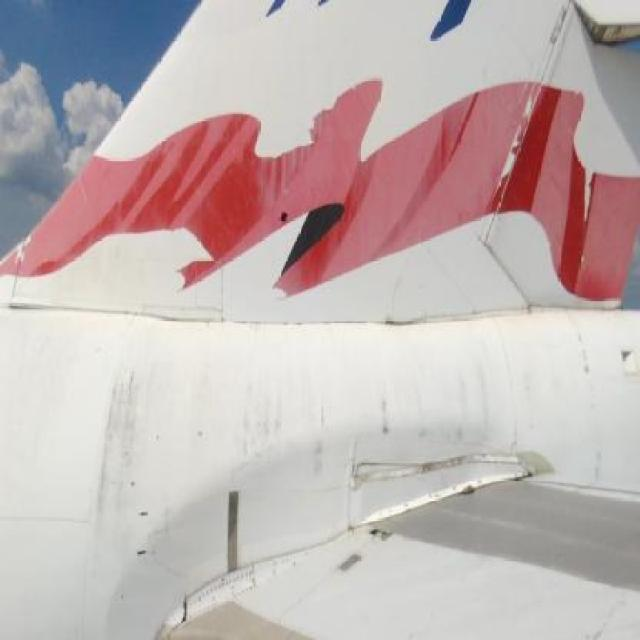Missing-Rivet: (180, 568, 274, 618)
Rust: (418, 450, 476, 482)
Scartch: (234, 384, 332, 481), (98, 364, 140, 548), (364, 392, 404, 448), (364, 521, 394, 559), (617, 335, 635, 374)
